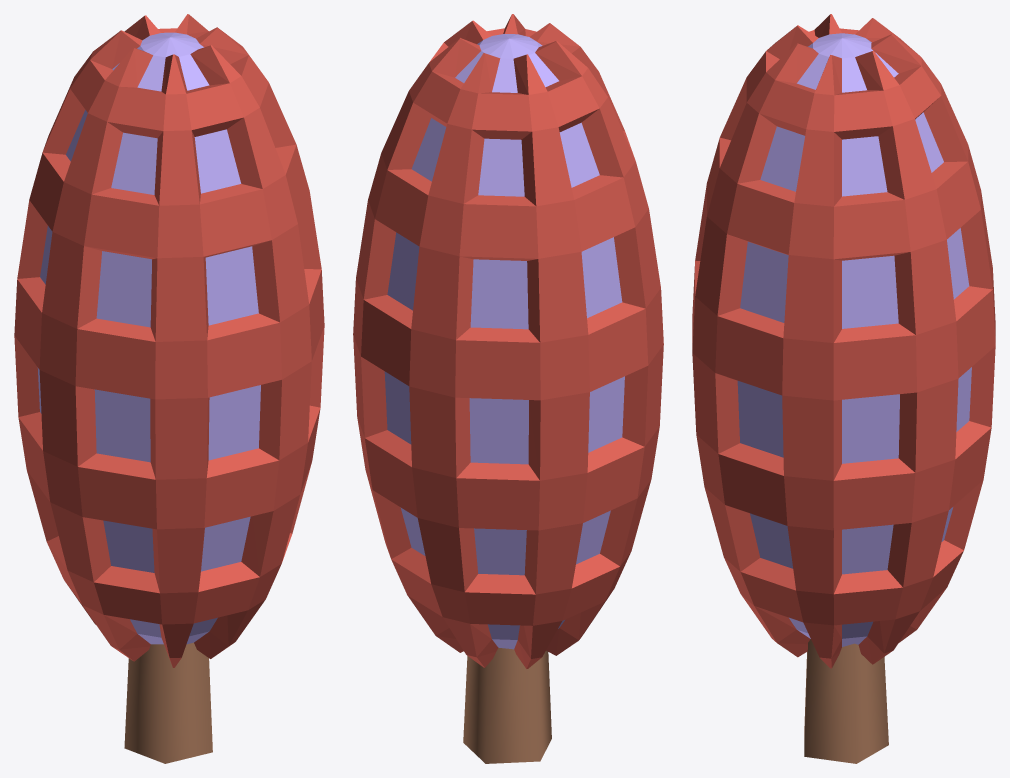
3 views of the same model, side by side, from view 1: azimuth 30°, elevation 25°; view 2: azimuth 150°, elevation 25°; view 3: azimuth 270°, elevation 25° (orthographic).
Parts seen in each view (by area): view 1: polySurface127, polySurface126, polySurface125, polySurface130; view 2: polySurface127, polySurface126, polySurface125, polySurface130; view 3: polySurface127, polySurface126, polySurface125, polySurface130.
Part boxes in pixels (x1,y1,x2,y2): polySurface127: [14, 108, 324, 479]; polySurface126: [18, 326, 324, 667]; polySurface125: [42, 14, 296, 205]; polySurface130: [124, 642, 212, 763]; polySurface127: [353, 91, 663, 480]; polySurface126: [357, 344, 663, 668]; polySurface125: [409, 14, 624, 206]; polySurface130: [463, 647, 551, 763]; polySurface127: [692, 103, 995, 472]; polySurface126: [692, 346, 995, 668]; polySurface125: [720, 14, 968, 206]; polySurface130: [804, 639, 888, 763].
Bounding box in the file's own units: 13.53 × 34.1 × 13.19.
